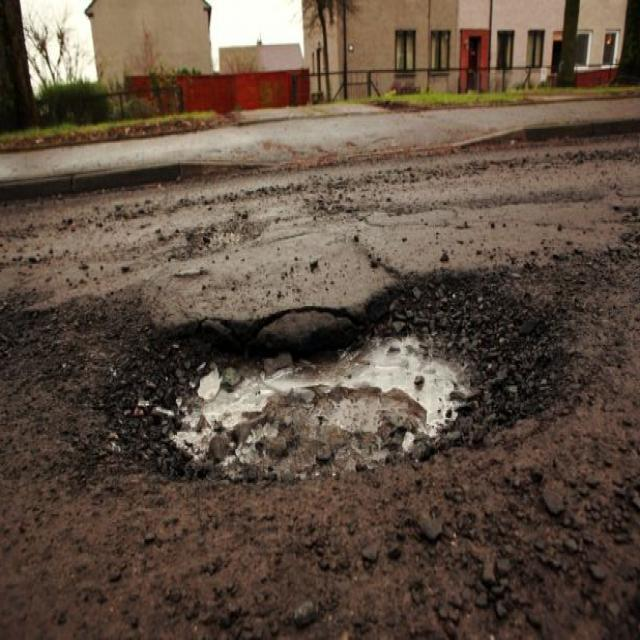pothole: (97, 254, 573, 483)
